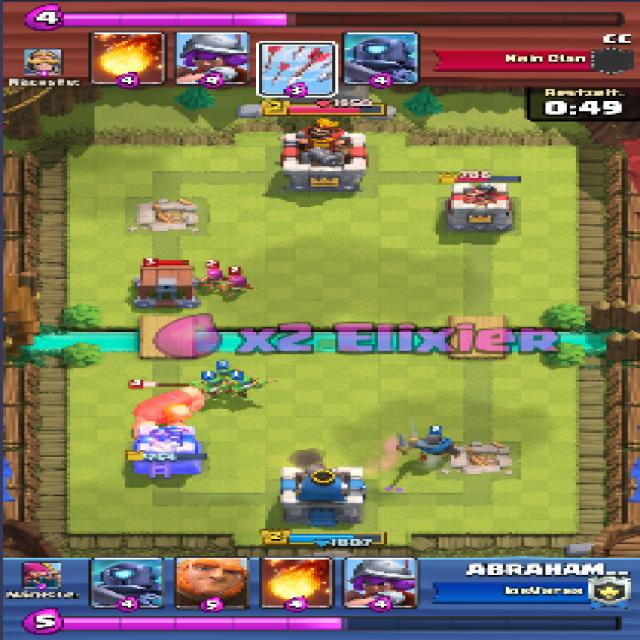Enemy-Archer: (218, 274, 250, 294), (201, 266, 226, 290)
Enemy-Giant: (129, 384, 205, 431)
Player-GoblinCage: (124, 264, 202, 310)
Player-Knight: (402, 431, 463, 460)
Player-SpearGoblin: (230, 376, 257, 403), (197, 377, 224, 401), (210, 365, 235, 388)
